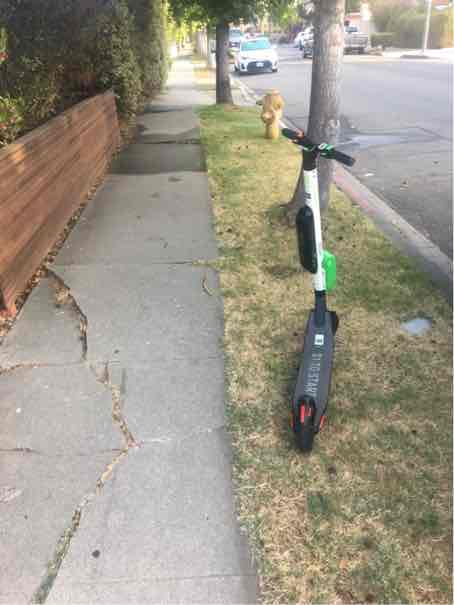scooter: (253, 127, 366, 469)
